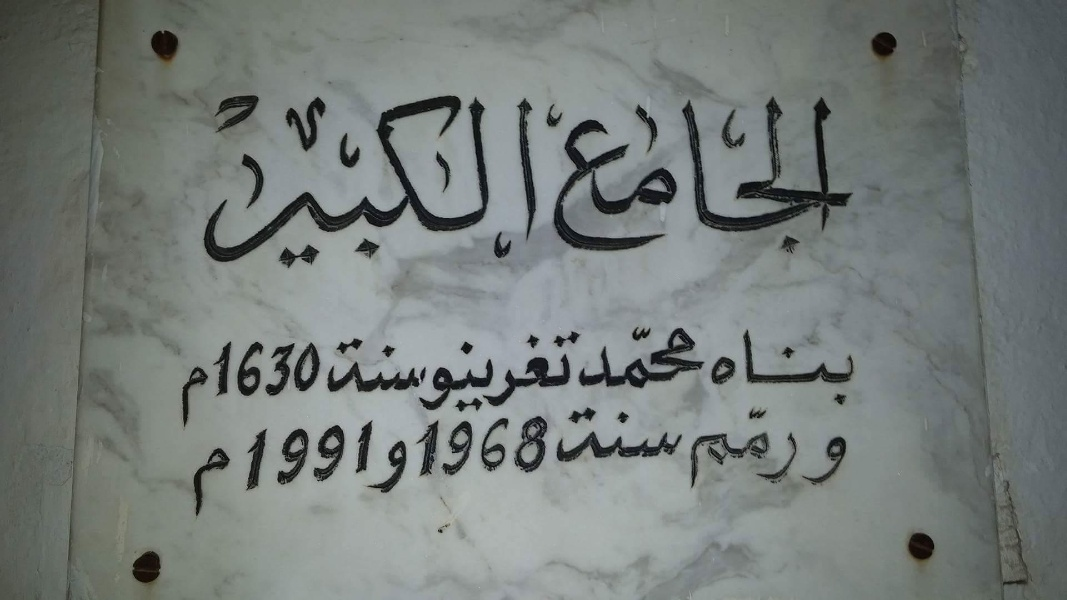text: (209, 84, 224, 273), (225, 84, 240, 273), (241, 84, 256, 273), (257, 84, 272, 273), (273, 84, 288, 273), (289, 84, 304, 273), (305, 84, 320, 273), (321, 84, 336, 273), (337, 84, 352, 273), (353, 84, 368, 273), (369, 84, 384, 273), (385, 84, 400, 273), (401, 84, 416, 273), (417, 84, 432, 273), (433, 84, 448, 273), (449, 84, 464, 273), (465, 84, 480, 273), (481, 84, 496, 273), (497, 84, 512, 273), (513, 84, 528, 273), (545, 92, 560, 263), (561, 92, 576, 263), (577, 92, 592, 263), (593, 92, 608, 263), (609, 92, 624, 263), (625, 92, 640, 263), (641, 92, 656, 263), (657, 92, 672, 263), (673, 92, 688, 263), (689, 92, 704, 263), (705, 92, 720, 263), (721, 92, 736, 263), (737, 92, 752, 263), (753, 92, 768, 263), (769, 92, 784, 263), (785, 92, 800, 263), (801, 92, 816, 263), (817, 92, 832, 263), (833, 92, 848, 263), (529, 84, 542, 273), (849, 92, 861, 263), (200, 84, 208, 273), (689, 404, 704, 494), (705, 404, 720, 494), (721, 404, 736, 494), (737, 404, 752, 494), (753, 404, 768, 494), (769, 404, 784, 494), (785, 404, 800, 494), (417, 329, 432, 414), (433, 329, 448, 414), (449, 329, 464, 414), (465, 329, 480, 414), (481, 329, 496, 414), (497, 329, 512, 414), (513, 329, 528, 414), (529, 329, 544, 414), (545, 329, 560, 414), (561, 329, 576, 414), (721, 326, 736, 407), (737, 326, 752, 407), (753, 326, 768, 407), (769, 326, 784, 407), (785, 326, 800, 407), (801, 326, 816, 407), (817, 326, 832, 407), (833, 326, 848, 407), (193, 446, 208, 526), (209, 446, 224, 526), (593, 318, 608, 394), (609, 318, 624, 394), (625, 318, 640, 394), (641, 318, 656, 394), (657, 318, 672, 394), (673, 318, 688, 394), (689, 318, 704, 394), (257, 419, 272, 493), (273, 419, 288, 493), (289, 419, 304, 493), (305, 419, 320, 493), (321, 419, 336, 493), (337, 419, 352, 493), (353, 419, 368, 493), (707, 326, 720, 407), (193, 364, 208, 433), (561, 406, 576, 466), (577, 406, 592, 466), (593, 406, 608, 466), (609, 406, 624, 466), (625, 406, 640, 466), (641, 406, 656, 466), (657, 406, 672, 466), (417, 417, 432, 477), (433, 417, 448, 477), (449, 417, 464, 477), (465, 417, 480, 477), (481, 417, 496, 477), (497, 417, 512, 477), (513, 417, 528, 477), (529, 417, 544, 477), (337, 337, 352, 397), (353, 337, 368, 397), (369, 337, 384, 397), (385, 337, 400, 397), (401, 337, 416, 397), (225, 340, 240, 399), (241, 340, 256, 399), (257, 340, 272, 399), (273, 340, 288, 399), (289, 340, 304, 399), (305, 340, 320, 399), (385, 439, 400, 495), (180, 364, 192, 433), (210, 340, 224, 399), (245, 419, 256, 493), (673, 406, 686, 466), (817, 436, 832, 487), (833, 436, 848, 487), (802, 436, 816, 487), (577, 329, 585, 414), (326, 337, 336, 397), (417, 337, 427, 397), (849, 326, 856, 407), (225, 446, 232, 526), (401, 439, 411, 495), (375, 439, 384, 495), (553, 406, 560, 466), (369, 419, 374, 493), (545, 417, 551, 477), (705, 318, 709, 394), (411, 417, 416, 477), (209, 364, 211, 433), (321, 340, 323, 399), (801, 404, 802, 494)
